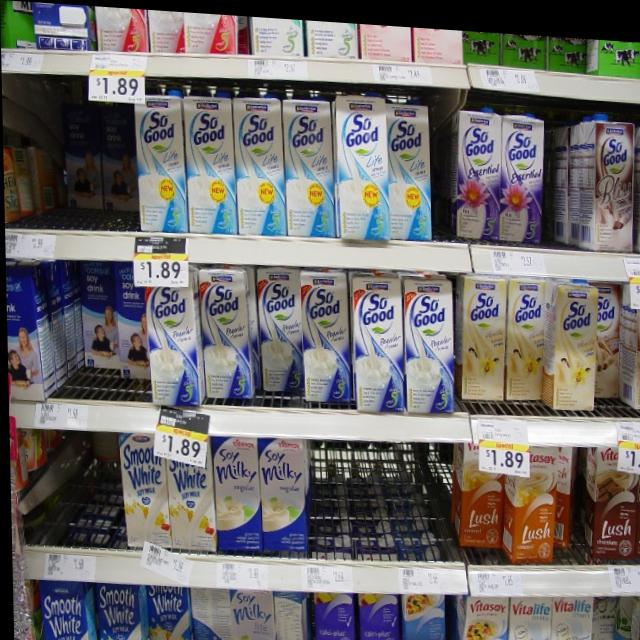q262: (281, 88, 338, 245), (333, 81, 389, 236), (233, 84, 286, 239), (129, 99, 187, 232), (186, 89, 235, 239), (389, 88, 433, 227)
